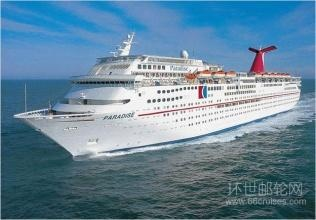youlun: (10, 33, 304, 159)
